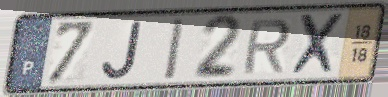2: (194, 13, 245, 84)
7: (48, 19, 99, 87)
I: (163, 16, 187, 83)
J: (98, 19, 145, 82)
R: (239, 17, 294, 76)
X: (288, 11, 346, 78)
